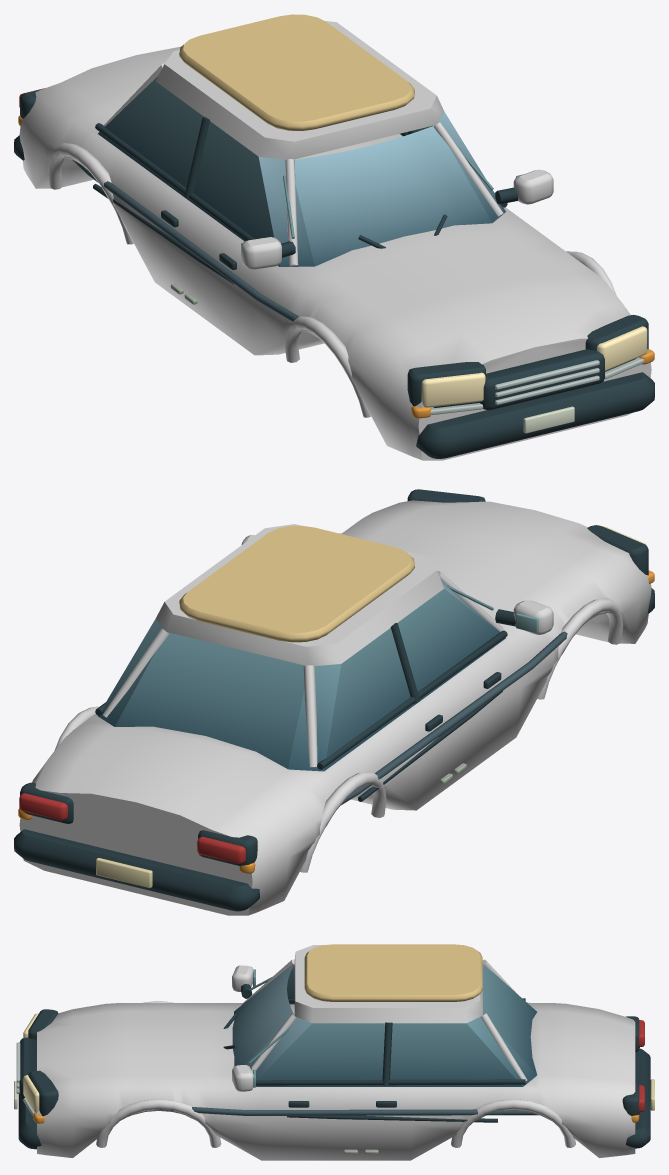
The model's file is sable.glb.
The picture shows the model from 3 angles, top to bottom: view 1: azimuth 30°, elevation 25°; view 2: azimuth 150°, elevation 25°; view 3: azimuth 270°, elevation 25°; orthographic projection. The views are drawn at different scales.
Parts seen in each view (by area): view 1: Chassis, Headlamps; view 2: Chassis, BrakeLamps; view 3: Chassis, Headlamps, BrakeLamps.
Boxes of the visible parts, bbox=[...] form: Chassis: bbox=[14, 14, 654, 460]; Headlamps: bbox=[421, 326, 647, 407]; Chassis: bbox=[14, 489, 654, 915]; BrakeLamps: bbox=[19, 793, 245, 863]; Chassis: bbox=[14, 944, 654, 1160]; Headlamps: bbox=[23, 1013, 39, 1113]; BrakeLamps: bbox=[638, 1020, 644, 1112].
Size of the model in its own units: 1.79 by 1.09 by 4.32.
